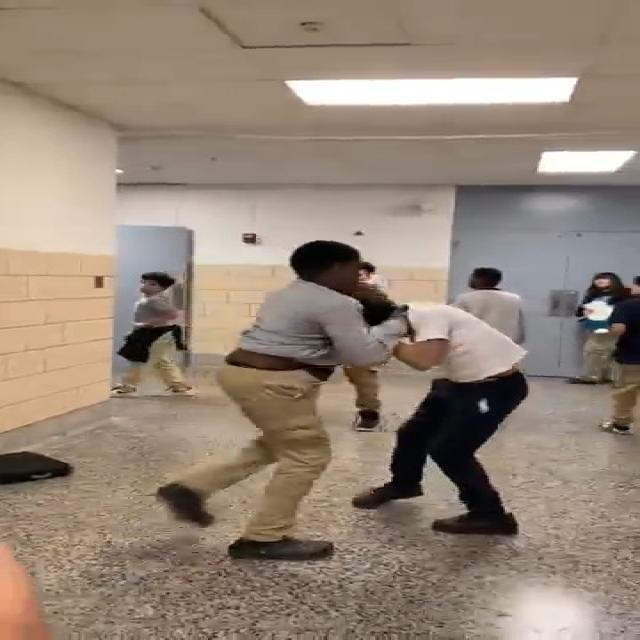fight: (155, 240, 547, 564)
